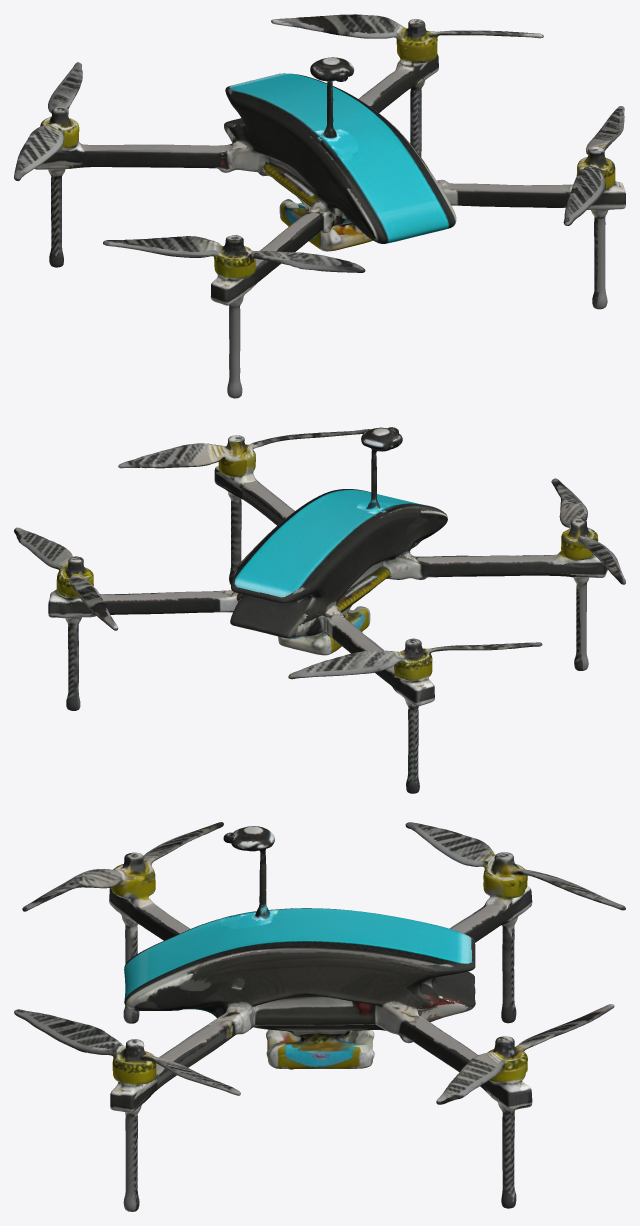
File: 3d-drone.glb
3 renders of one model, top to bottom at view 1: azimuth 30°, elevation 25°; view 2: azimuth 150°, elevation 25°; view 3: azimuth 270°, elevation 25°, orthographic. The views are drawn at different scales.
Visible parts, largest first — view 1: Mesh; view 2: Mesh; view 3: Mesh.
Part boxes in pixels (<box>): Mesh: <box>14,14,625,398</box>; Mesh: <box>14,427,625,793</box>; Mesh: <box>14,822,625,1211</box>.
Bounding box in the file's own units: 0.9884 × 0.4468 × 0.9118.
Materials: 1 (1 with a texture image).
